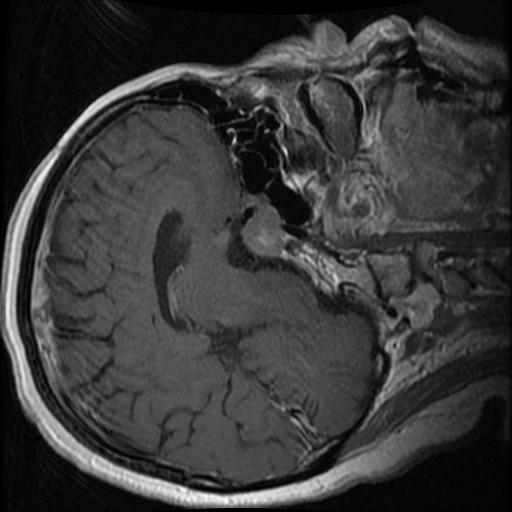pituitary tumour: (240, 194, 281, 256)
